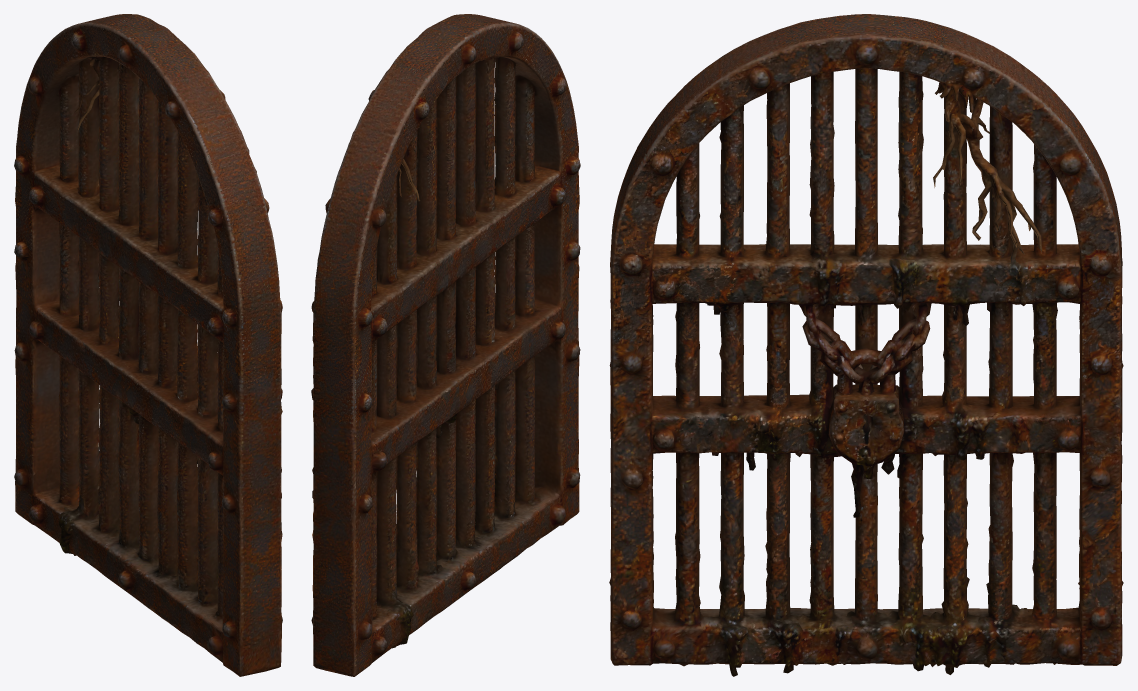
The model's file is raw_grate.glb.
3 renders of one model, left to right at view 1: azimuth 30°, elevation 25°; view 2: azimuth 150°, elevation 25°; view 3: azimuth 270°, elevation 25°, orthographic. The views are drawn at different scales.
Parts seen in each view (by area): view 1: tripo_node_f96a9e2b-e748-47d5-824b-c113224c2c37; view 2: tripo_node_f96a9e2b-e748-47d5-824b-c113224c2c37; view 3: tripo_node_f96a9e2b-e748-47d5-824b-c113224c2c37.
Part boxes in pixels (<box>): tripo_node_f96a9e2b-e748-47d5-824b-c113224c2c37: <box>14,14,282,676</box>; tripo_node_f96a9e2b-e748-47d5-824b-c113224c2c37: <box>311,14,580,676</box>; tripo_node_f96a9e2b-e748-47d5-824b-c113224c2c37: <box>609,14,1123,676</box>.
Size of the model in its own units: 0.1353 by 1 by 0.7225.
1 material, 1 textured.
